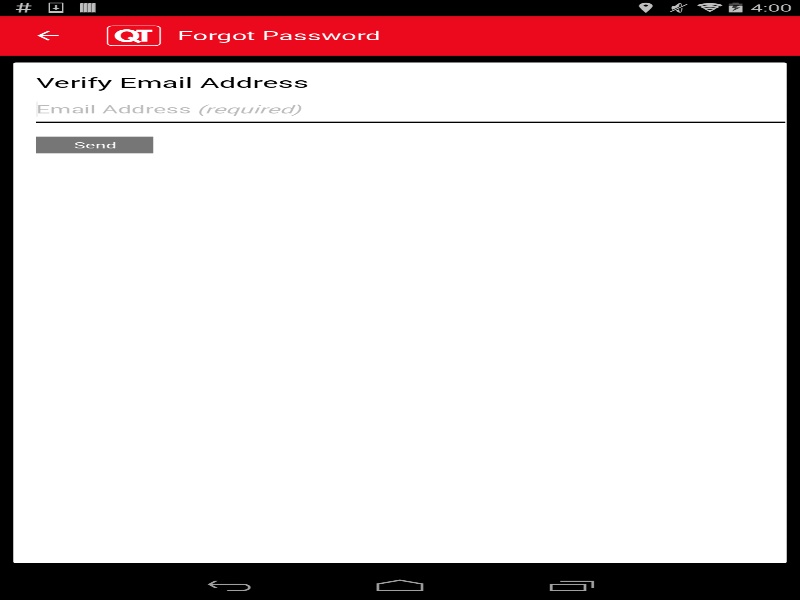Button: (10, 15, 85, 55), (36, 136, 153, 153)
Input: (36, 96, 785, 126)
